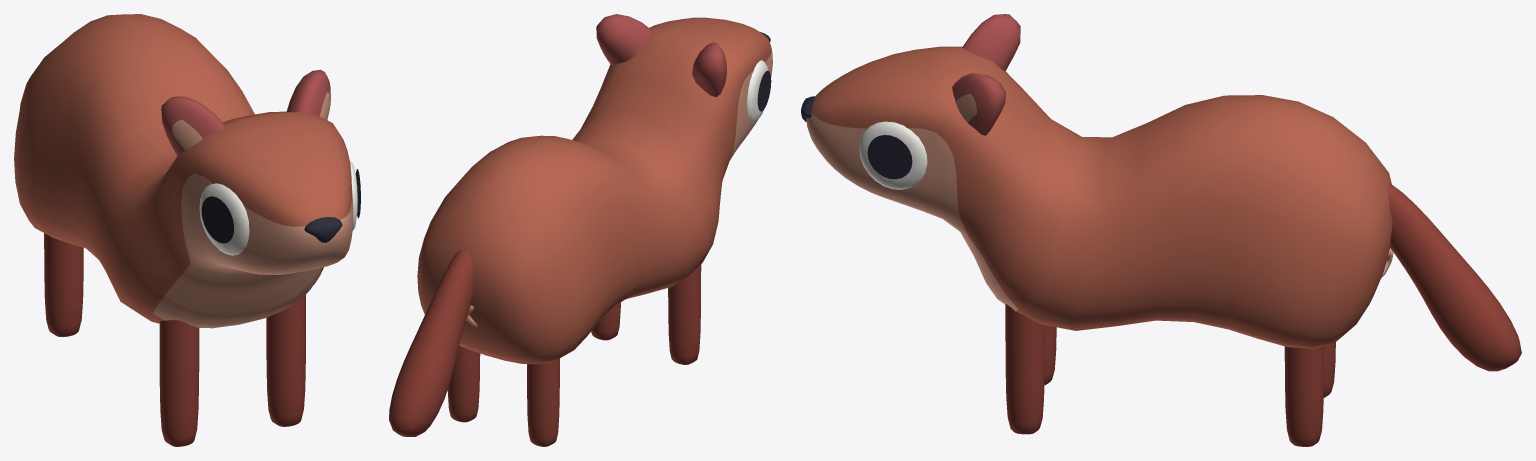
Rendered from Marten.glb.
3 renders of one model, left to right at view 1: azimuth 30°, elevation 25°; view 2: azimuth 150°, elevation 25°; view 3: azimuth 270°, elevation 25°, orthographic. The views are drawn at different scales.
Parts seen in each view (by area): view 1: Marten; view 2: Marten; view 3: Marten.
Boxes of the visible parts, box(x1,y1,x2,y2) form: Marten: box(14, 14, 360, 446); Marten: box(389, 14, 772, 446); Marten: box(801, 14, 1521, 446).
Size of the model in its own units: 0.9304 by 1.53 by 2.79.
Materials: 1 (1 with a texture image).
